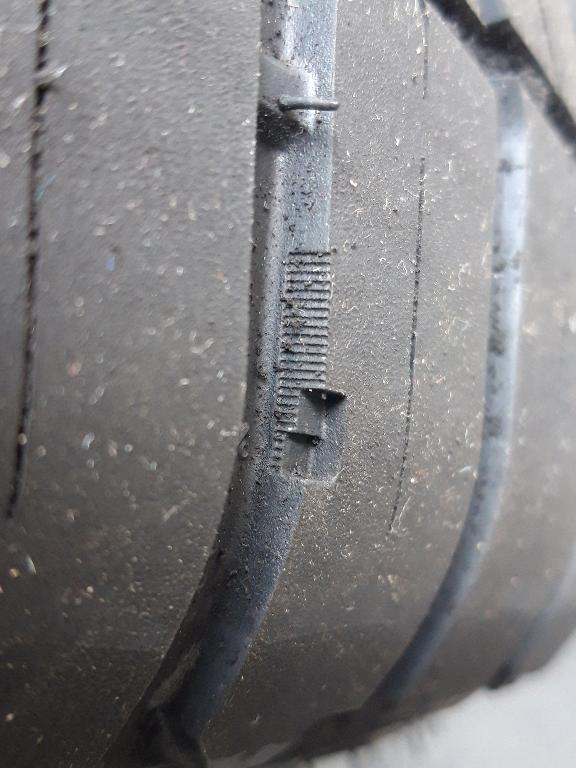temoin:50: (261, 341, 358, 490)
